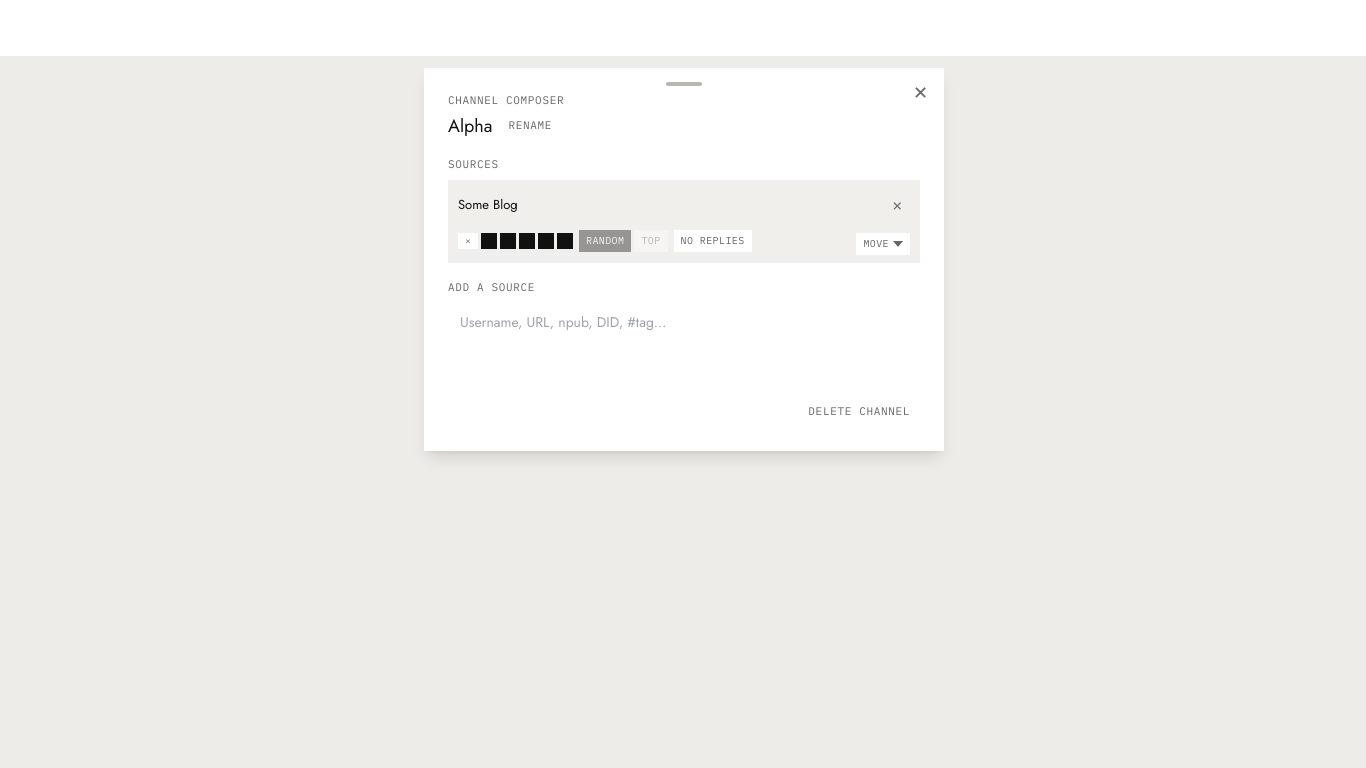
Scenario: the ⚙ panel's Move (R2) › a refusal says so in the route's words, and the row stays
The width and height of the screenshot is (1366, 768).
Click the button "Move". click: (883, 244)
box: [856,233,910,255]
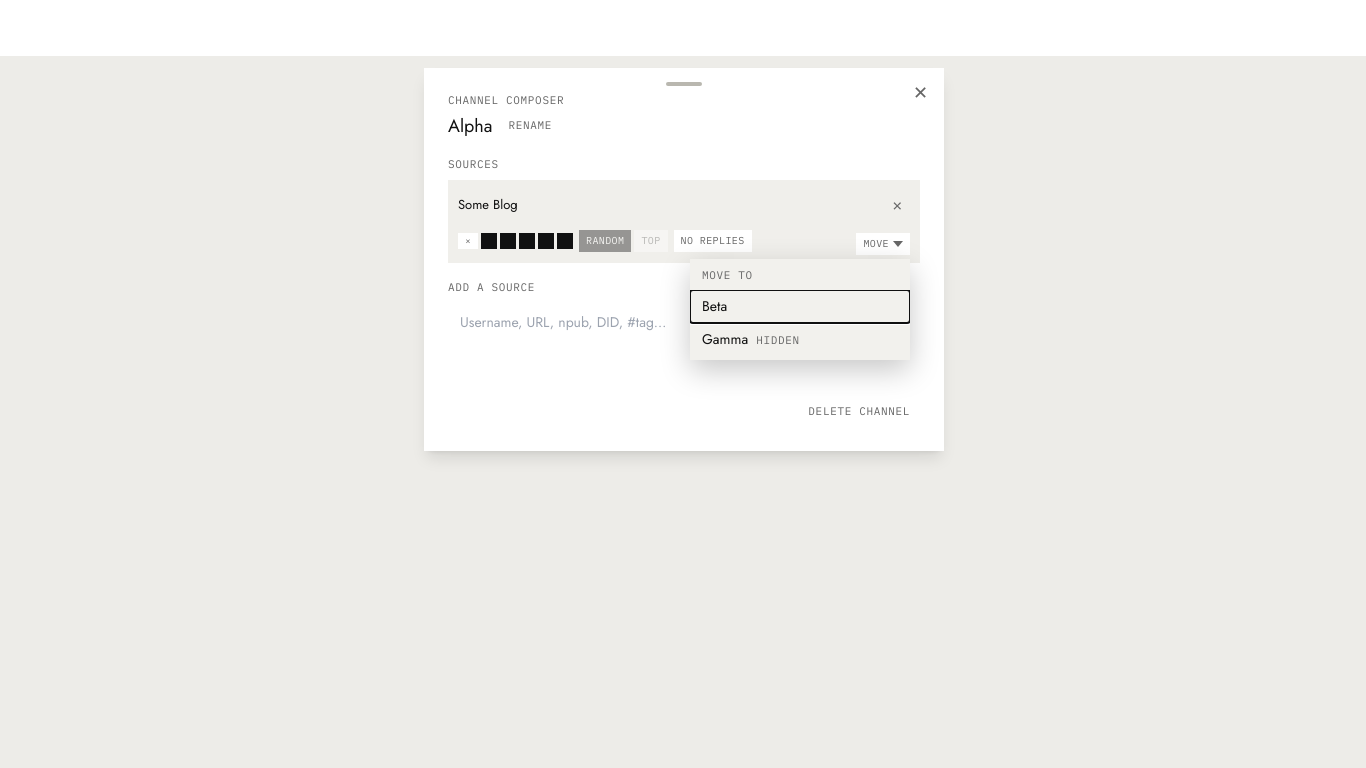
Click the button "Beta". click: (800, 307)
box: [690,290,910,323]
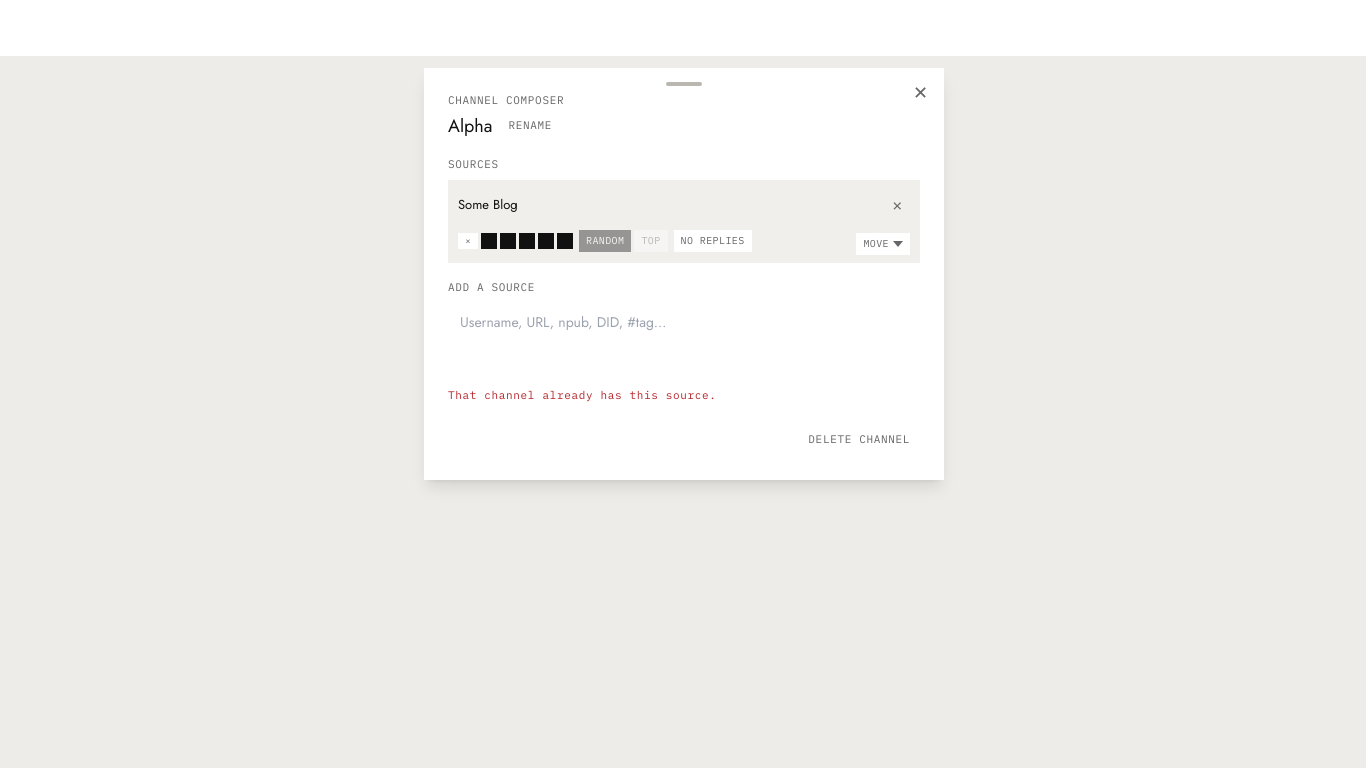
Check: the text "Some Blog" is shown, box [458,195,518,214]
Check: the text "That channel already has this source." is shown, box [448,388,717,402]
